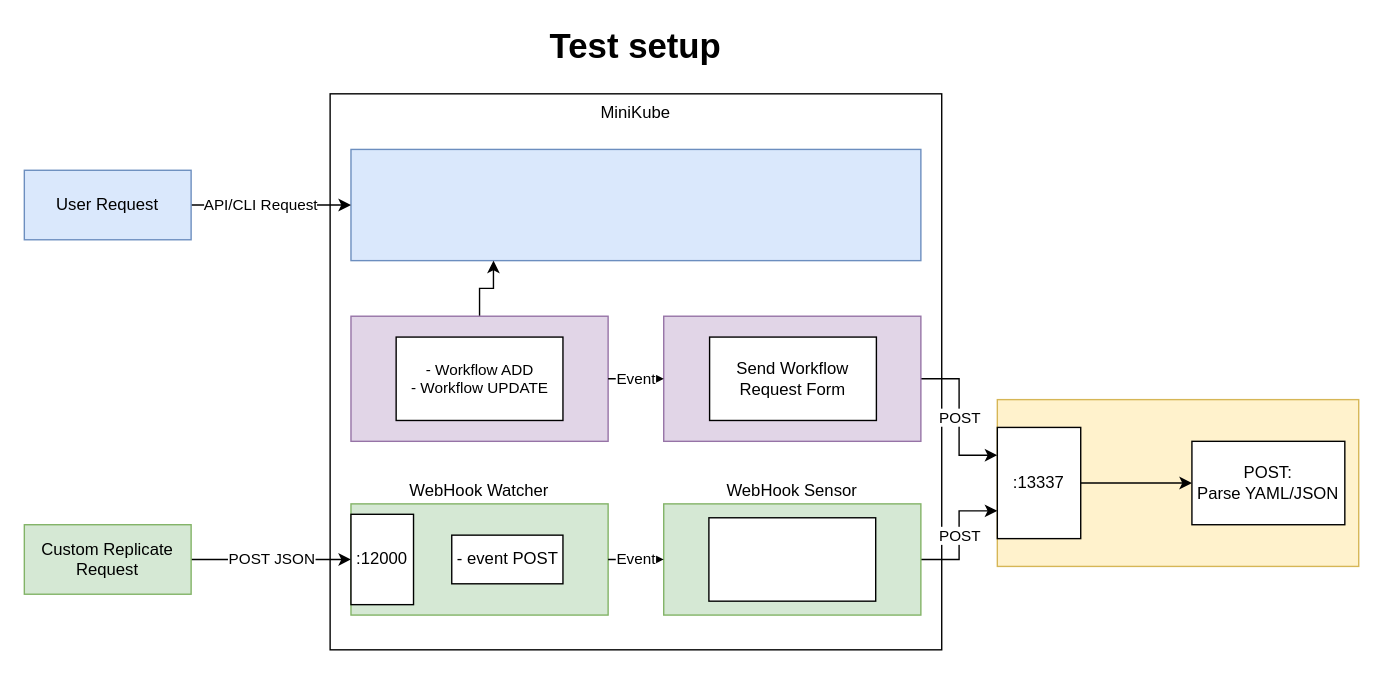
Image size: 1383x674. Some labels were removed from this diagram. Each missing label, with the box of its shape:
Argo Workflow: (350, 148, 921, 261)
Replicate Endpoint Stub: (996, 398, 1359, 566)
Send Request Form: (708, 516, 876, 601)
Workflow Job Sensor: (662, 315, 921, 441)
Workflow Job Watcher: (350, 315, 608, 441)
